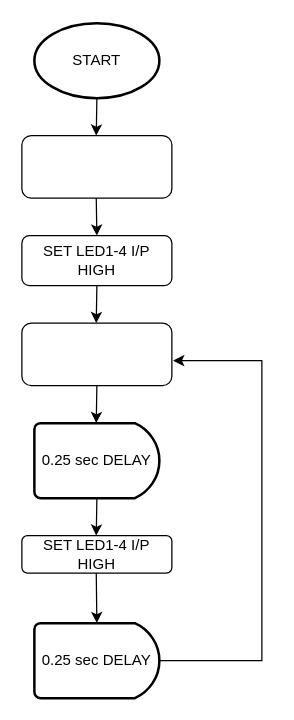
Some shapes in this 294 by 720 pixel diagram are drawn without their labels. The box of each missing label's shape, as (x1, y1, x2, y2) in pixels:
INITIALIZE TRISF, TRISA, LATF, LATA, T1CON, TMR1: (21, 134, 172, 198)
RESET LED1-4 I/P LOW: (21, 322, 172, 386)
